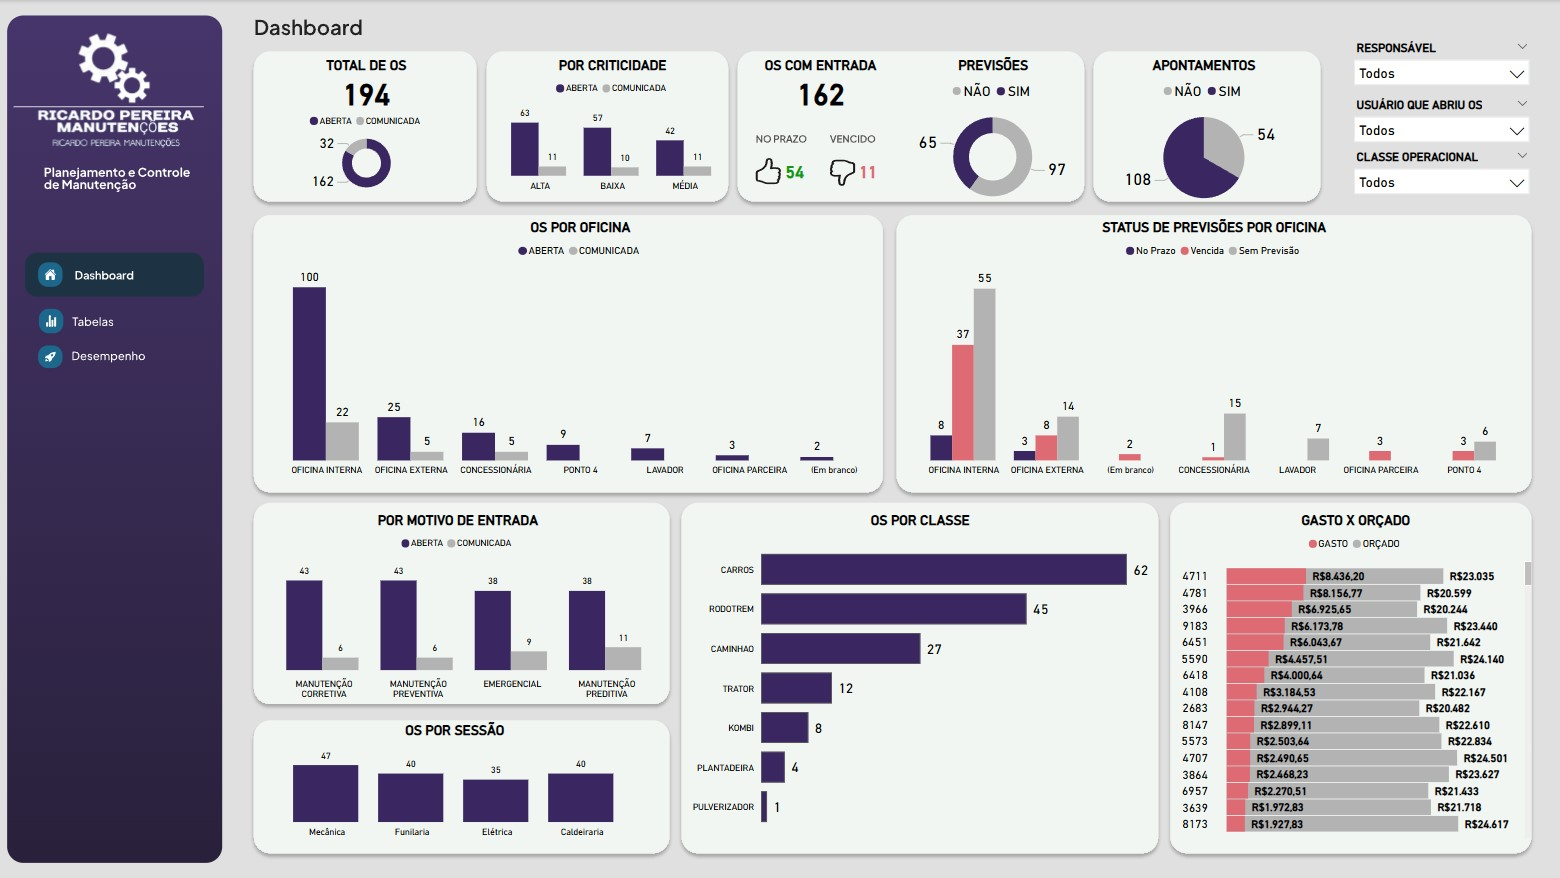

This screenshot's page, from the dashboard's own definition file:
{"tool":"powerbi","page":{"name":"DASHBOARD DARK","canvas":[1920,1080],"ordinal":0},"visuals":[{"type":"card","title":"TOTAL DE OS","fields":{"Values":["Medidas.QtdEquipamentos"]},"box":[347.4,70.3,206.9,67.7],"z":0},{"type":"card","title":"OS COM ENTRADA","fields":{"Values":["Medidas.QtdAberta"]},"box":[929.1,70.3,158.7,67.7],"z":1000},{"type":"multiRowCard","fields":{"Values":["Medidas.QtdNoPrazo"]},"box":[1050.1,193.9,95,48.1],"z":2000},{"type":"multiRowCard","fields":{"Values":["Medidas.EntradaVencida"]},"box":[960.3,193.9,96.3,48.1],"z":3000},{"type":"donutChart","title":"PREVISÕES","fields":{"Y":["Medidas.EntradaSemPrevisao","Medidas.TotalPrevisao"]},"box":[1098.2,70.3,243.3,191.3],"z":4000},{"type":"clusteredColumnChart","title":"OS POR OFICINA","fields":{"Y":["Medidas.QtdAberta","Medidas.QtdComunicada"],"Category":["dCadastroOficina.Dsc Oficina"]},"box":[314,268.6,798.8,322.7],"z":5000},{"type":"clusteredColumnChart","title":"STATUS DE PREVISÕES POR OFICINA","fields":{"Y":["Medidas.QtdNoPrazo","Medidas.EntradaVencida","Medidas.EntradaSemPrevisao"],"Category":["dCadastroOficina.Dsc Oficina"]},"box":[1097.1,268.6,788.4,322.7],"z":6000},{"type":"barChart","title":"OS POR CLASSE","fields":{"Category":["dCadastroEquipamentos.DSC CLASSE"],"Y":["Medidas.QtdAberta"]},"box":[844.5,628.5,572.5,406],"z":7000},{"type":"pieChart","title":"APONTAMENTOS","fields":{"Y":["Medidas.SemApontamentos","Medidas.ContemApontamentos"]},"box":[1341.5,70.3,274.6,192.6],"z":8000},{"type":"clusteredBarChart","title":"GASTO X ORÇADO","fields":{"Category":["fDemandaOS.Cod.Eqp/CC/Agd"],"Y":["Medidas.TotalGastoInterno","Medidas.SomaOrcado"]},"box":[1444.3,628.5,441.1,406],"z":9000},{"type":"clusteredColumnChart","title":"POR CRITICIDADE","fields":{"Y":["Medidas.QtdAberta","Medidas.QtdComunicada"],"Category":["fDemandaOS.Criticidade"]},"box":[588.1,70.3,330.5,171.8],"z":10000},{"type":"clusteredColumnChart","title":"POR MOTIVO DE ENTRADA","fields":{"Category":["fDemandaOS.Motivo"],"Y":["Medidas.QtdAberta","Medidas.QtdComunicada"]},"box":[282.6,627.9,561.6,237.2],"z":11000},{"type":"columnChart","title":"OS POR SESSÃO","fields":{"Category":["fDemandaOS.Seção Mecânica Box"],"Y":["Medidas.QtdAberta"]},"box":[313.7,885.6,490.2,148.8],"z":12000},{"type":"slicer","fields":{"Values":["dCadastroEquipamentos.USUARIO"]},"box":[1653.5,45.3,235.5,64.5],"z":13000},{"type":"slicer","fields":{"Values":["fDemandaOS.Usuário Que Abriu A O.S."]},"box":[1653.5,115.1,235.5,64.5],"z":14000},{"type":"slicer","fields":{"Values":["dCadastroEquipamentos.DSC CLASSE"]},"box":[1653.5,179.7,235.5,62.8],"z":15000},{"type":"donutChart","title":"PREVISÕES","fields":{"Y":["Medidas.QtdAberta","Medidas.QtdComunicada"]},"box":[355.2,128.8,192.6,114.5],"z":16000}]}

Visuals, with their boxes on the page's 1920x1080 design canvas (x1, y1, x2, y2). These are canvas units, not pixel positions in the 1560x878 screenshot, which may show the page scaled, cropped or inside an application window:
"TOTAL DE OS" card: {"left": 347, "top": 70, "right": 554, "bottom": 138}
"OS COM ENTRADA" card: {"left": 929, "top": 70, "right": 1088, "bottom": 138}
multiRowCard - Medidas.QtdNoPrazo: {"left": 1050, "top": 194, "right": 1145, "bottom": 242}
multiRowCard - Medidas.EntradaVencida: {"left": 960, "top": 194, "right": 1057, "bottom": 242}
"PREVISÕES" donutChart: {"left": 1098, "top": 70, "right": 1342, "bottom": 262}
"OS POR OFICINA" clusteredColumnChart: {"left": 314, "top": 269, "right": 1113, "bottom": 591}
"STATUS DE PREVISÕES POR OFICINA" clusteredColumnChart: {"left": 1097, "top": 269, "right": 1886, "bottom": 591}
"OS POR CLASSE" barChart: {"left": 844, "top": 628, "right": 1417, "bottom": 1034}
"APONTAMENTOS" pieChart: {"left": 1342, "top": 70, "right": 1616, "bottom": 263}
"GASTO X ORÇADO" clusteredBarChart: {"left": 1444, "top": 628, "right": 1885, "bottom": 1034}
"POR CRITICIDADE" clusteredColumnChart: {"left": 588, "top": 70, "right": 919, "bottom": 242}
"POR MOTIVO DE ENTRADA" clusteredColumnChart: {"left": 283, "top": 628, "right": 844, "bottom": 865}
"OS POR SESSÃO" columnChart: {"left": 314, "top": 886, "right": 804, "bottom": 1034}
slicer - dCadastroEquipamentos.USUARIO: {"left": 1654, "top": 45, "right": 1889, "bottom": 110}
slicer - fDemandaOS.Usuário Que Abriu A O.S.: {"left": 1654, "top": 115, "right": 1889, "bottom": 180}
slicer - dCadastroEquipamentos.DSC CLASSE: {"left": 1654, "top": 180, "right": 1889, "bottom": 242}
"PREVISÕES" donutChart: {"left": 355, "top": 129, "right": 548, "bottom": 243}
